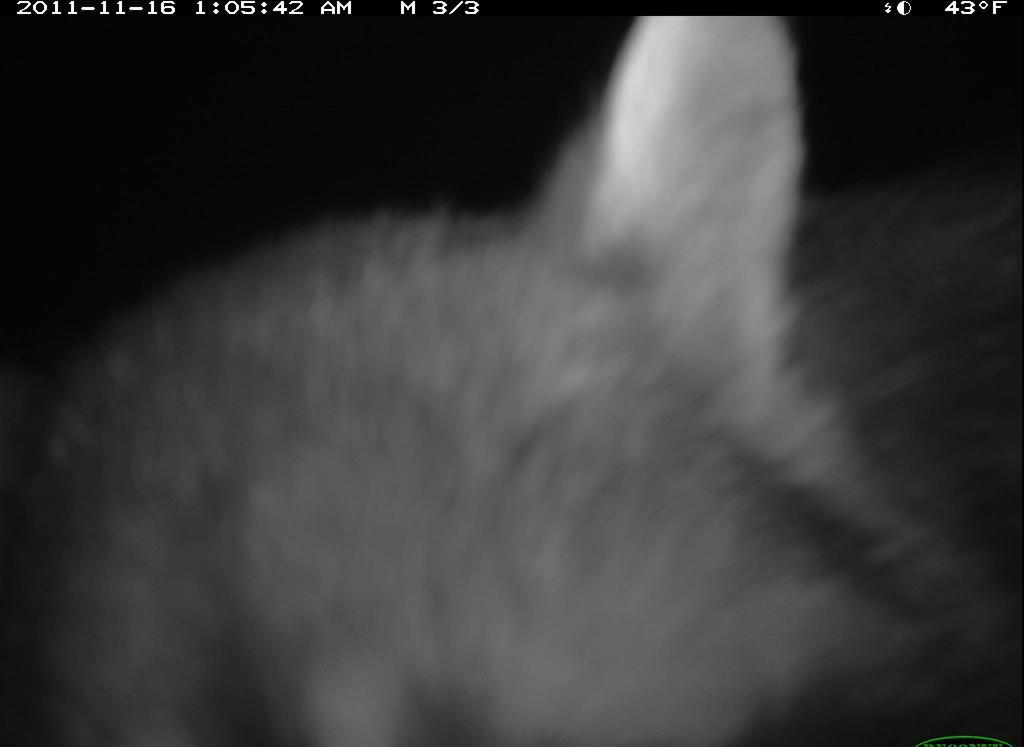raccoon: (4, 16, 1023, 747)
